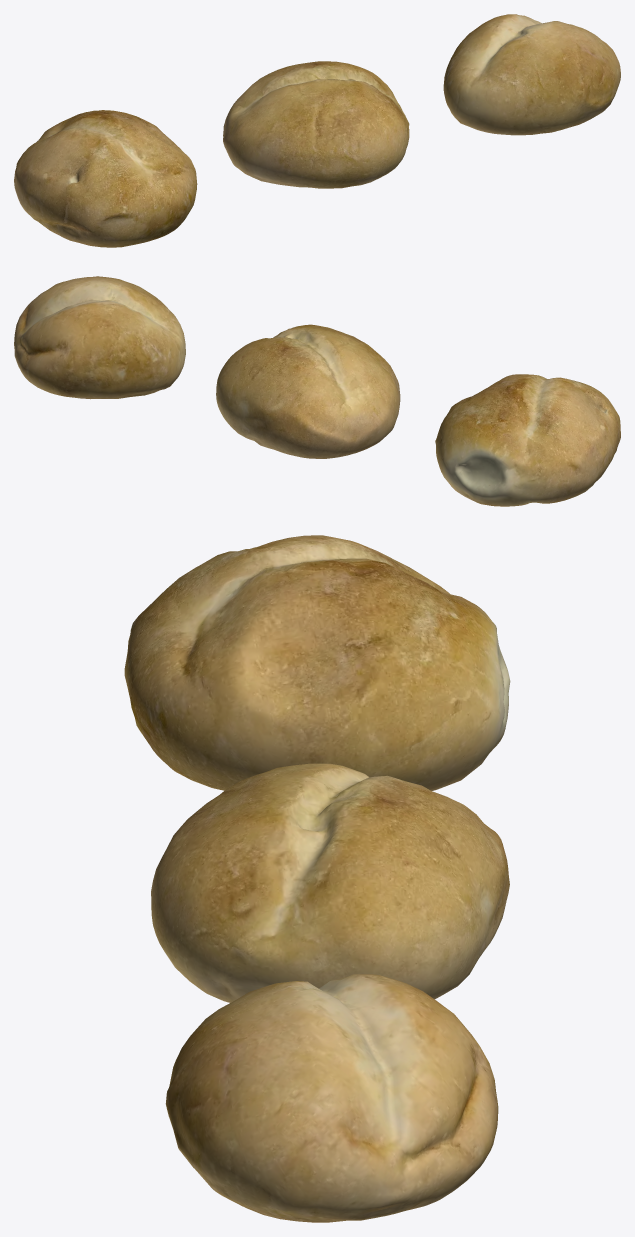
File: hamburger_buns.glb
3 views of the same model, one above another, from view 1: azimuth 30°, elevation 25°; view 2: azimuth 150°, elevation 25°; view 3: azimuth 270°, elevation 25° (orthographic). The views are drawn at different scales.
Parts seen in each view (by area): view 1: hamburger_buns_01; view 2: hamburger_buns_01; view 3: hamburger_buns_01.
Boxes of the visible parts, <box> form: hamburger_buns_01: <box>14,14,620,247</box>; hamburger_buns_01: <box>14,276,620,506</box>; hamburger_buns_01: <box>124,535,510,1222</box>.
Bounding box in the file's own units: 0.3972 × 0.0634 × 0.1138.
Materials: 1 (1 with a texture image).
